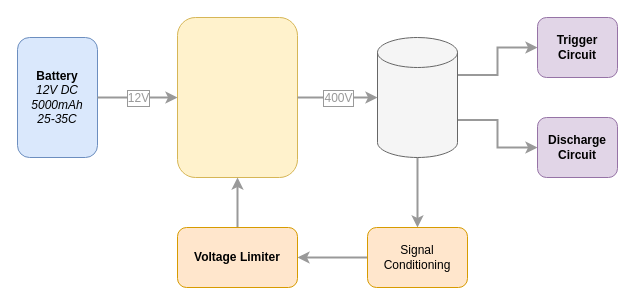
The diagram is 635 pixels wide and 305 high, and some of its shapes have lost their labels. The shapes that lost their labels are listed below. From the top down, each one's centre as x and y in pixels, then its label:
At (237,97): "DC to DC Step Up Converter 12V - 400V DC".
At (417,97): "Capacitor Bank 4700µF 400V".
